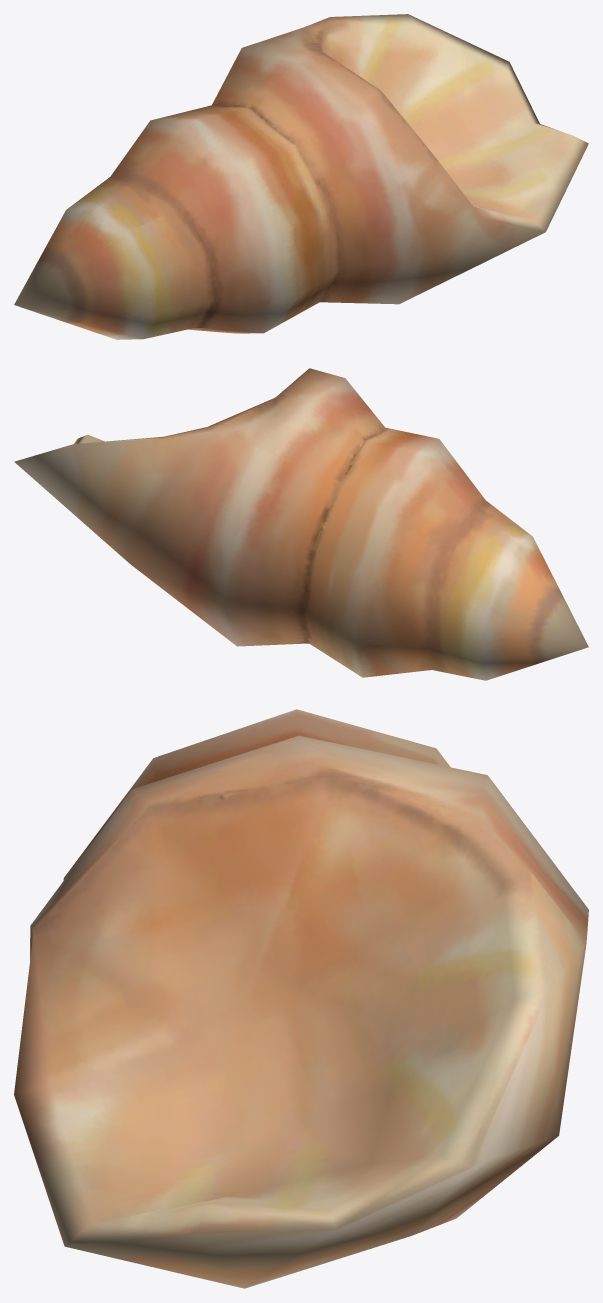
File: P_Beach_Conch.obj
3 renders of one model, top to bottom at view 1: azimuth 30°, elevation 25°; view 2: azimuth 150°, elevation 25°; view 3: azimuth 270°, elevation 25°, orthographic. The views are drawn at different scales.
Size of the model in its own units: 1.65 by 0.7403 by 0.7869.
